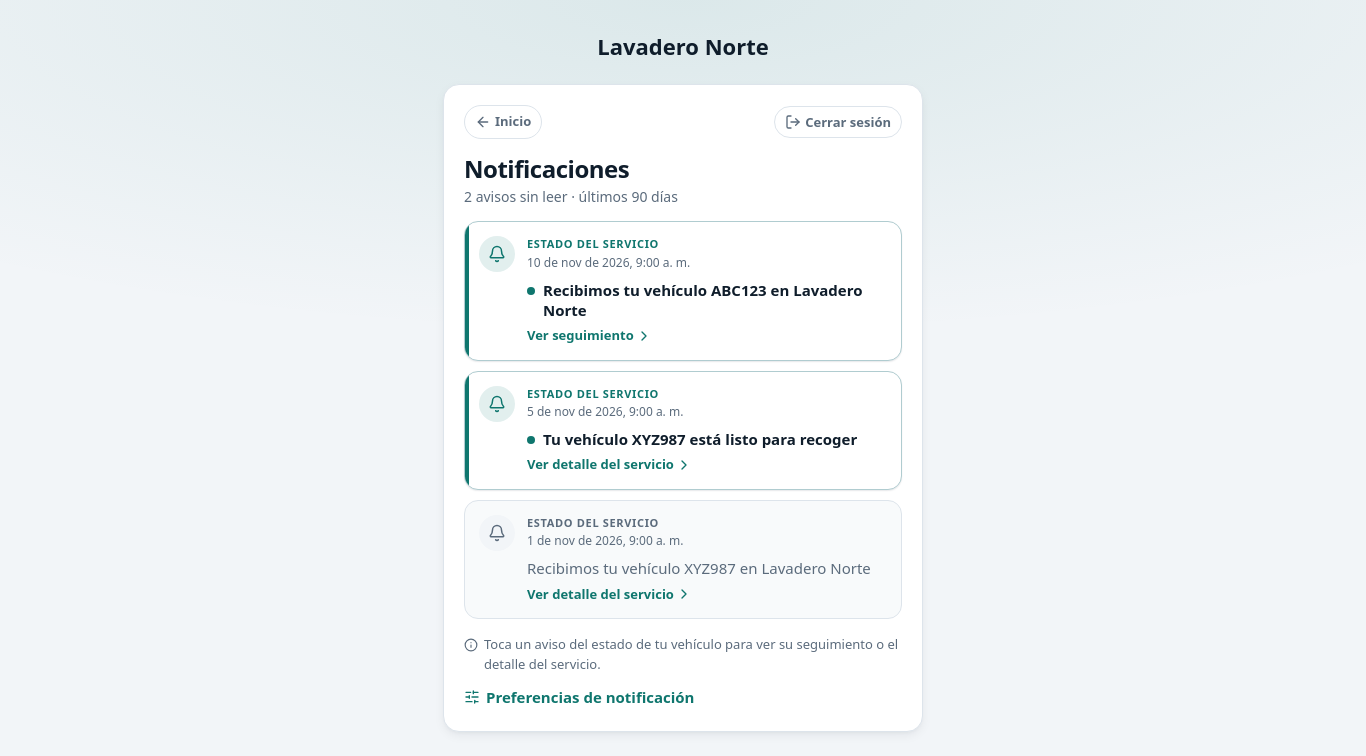
Test: HU-38 · pantalla del centro de notificaciones › Cerrar sesión borra el pase del celular y vuelve a pedir el acceso
What coordinates should you click on to do the following:
click the button "Cerrar sesión"
I would click on:
 (838, 122)
Its box is top-left (774, 106), bottom-right (902, 138).
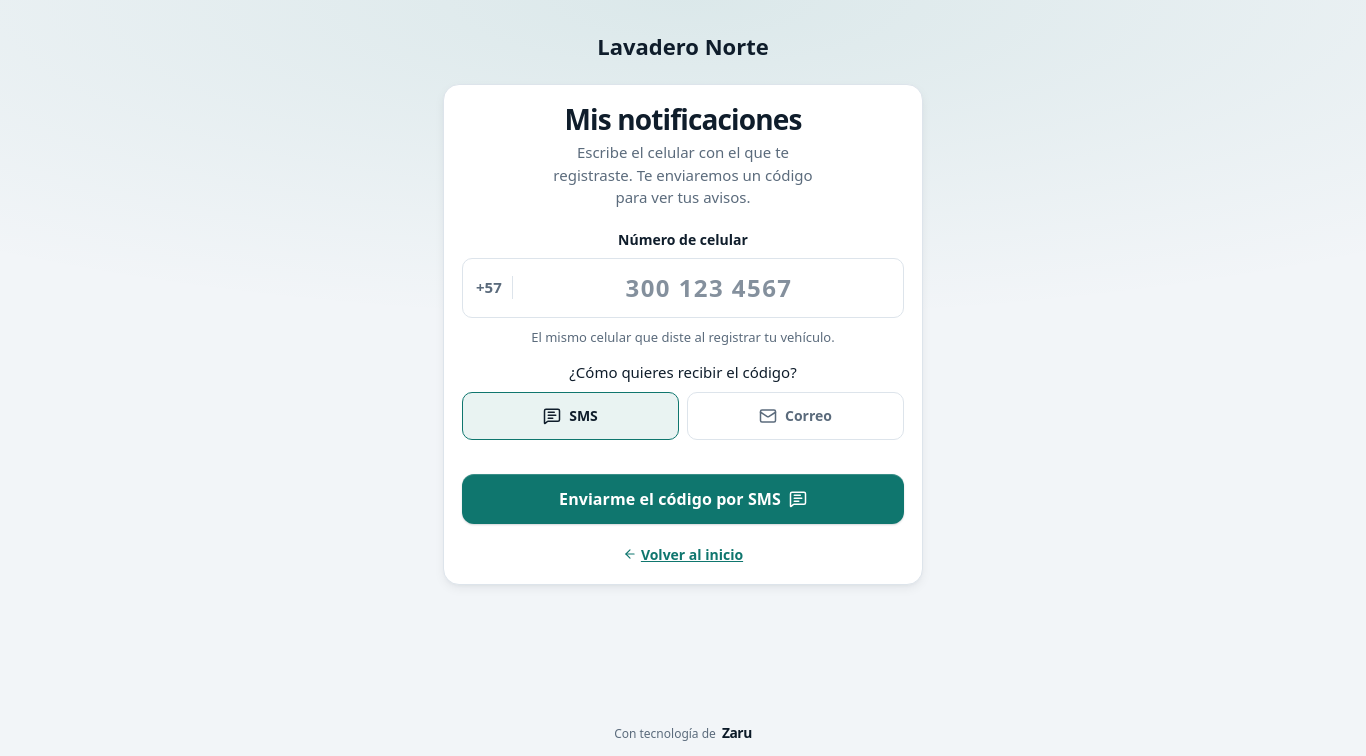
Check: the field labelled "Número de celular" is shown, box top-left (462, 258), bottom-right (904, 318)
